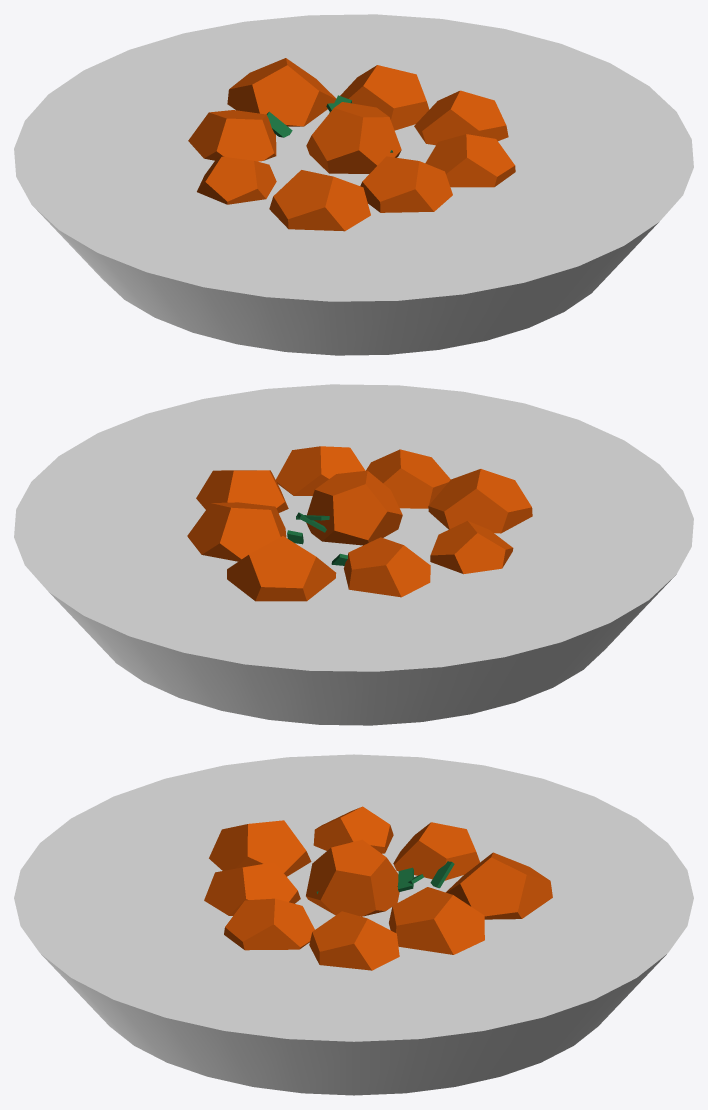
File: chicken-65.glb
3 views of the same model, one above another, from view 1: azimuth 30°, elevation 25°; view 2: azimuth 150°, elevation 25°; view 3: azimuth 270°, elevation 25° (orthographic).
Size of the model in its own units: 1.8 by 0.3984 by 1.8.
